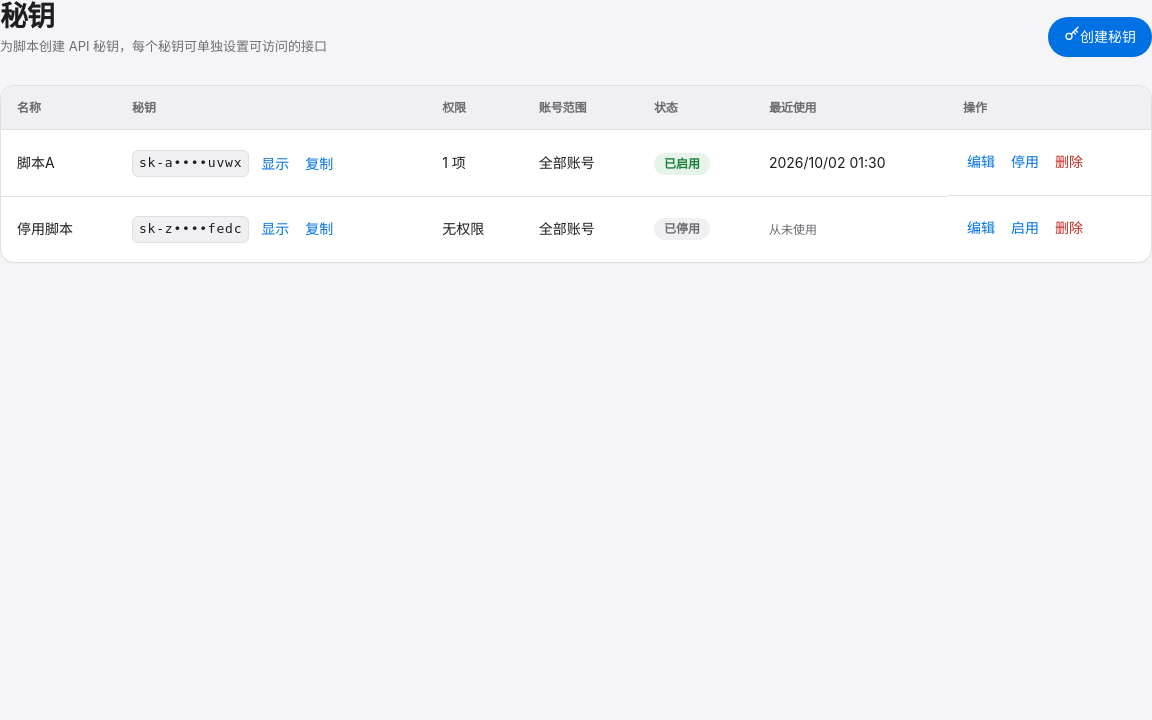
KeysPage › 创建对话框提示留空自动生成
The image size is (1152, 720).
Expected: the text "脚本A" is shown, [1, 130, 116, 196]
Click the button "创建秘钥".
click(1100, 37)  # box [1048, 17, 1151, 57]
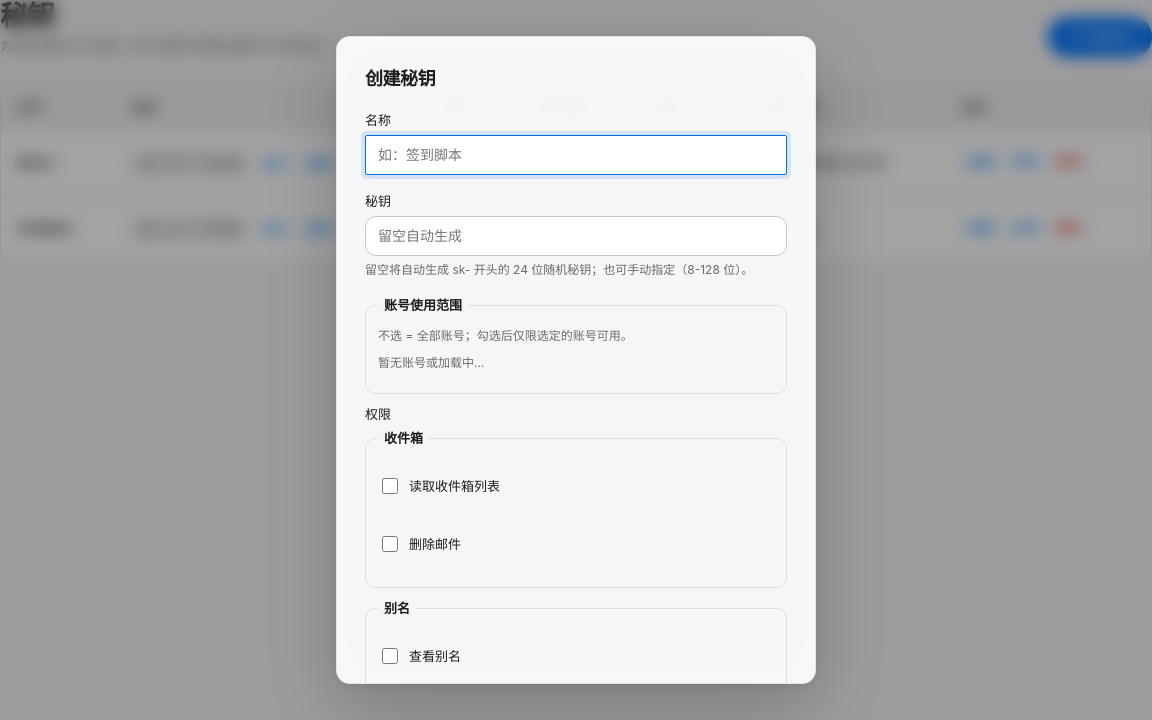
Result: the text "留空将自动生成 sk- 开头的 24 位随机秘钥；也可手动指定（8-128 位）。" is shown at [365, 260, 787, 279]
